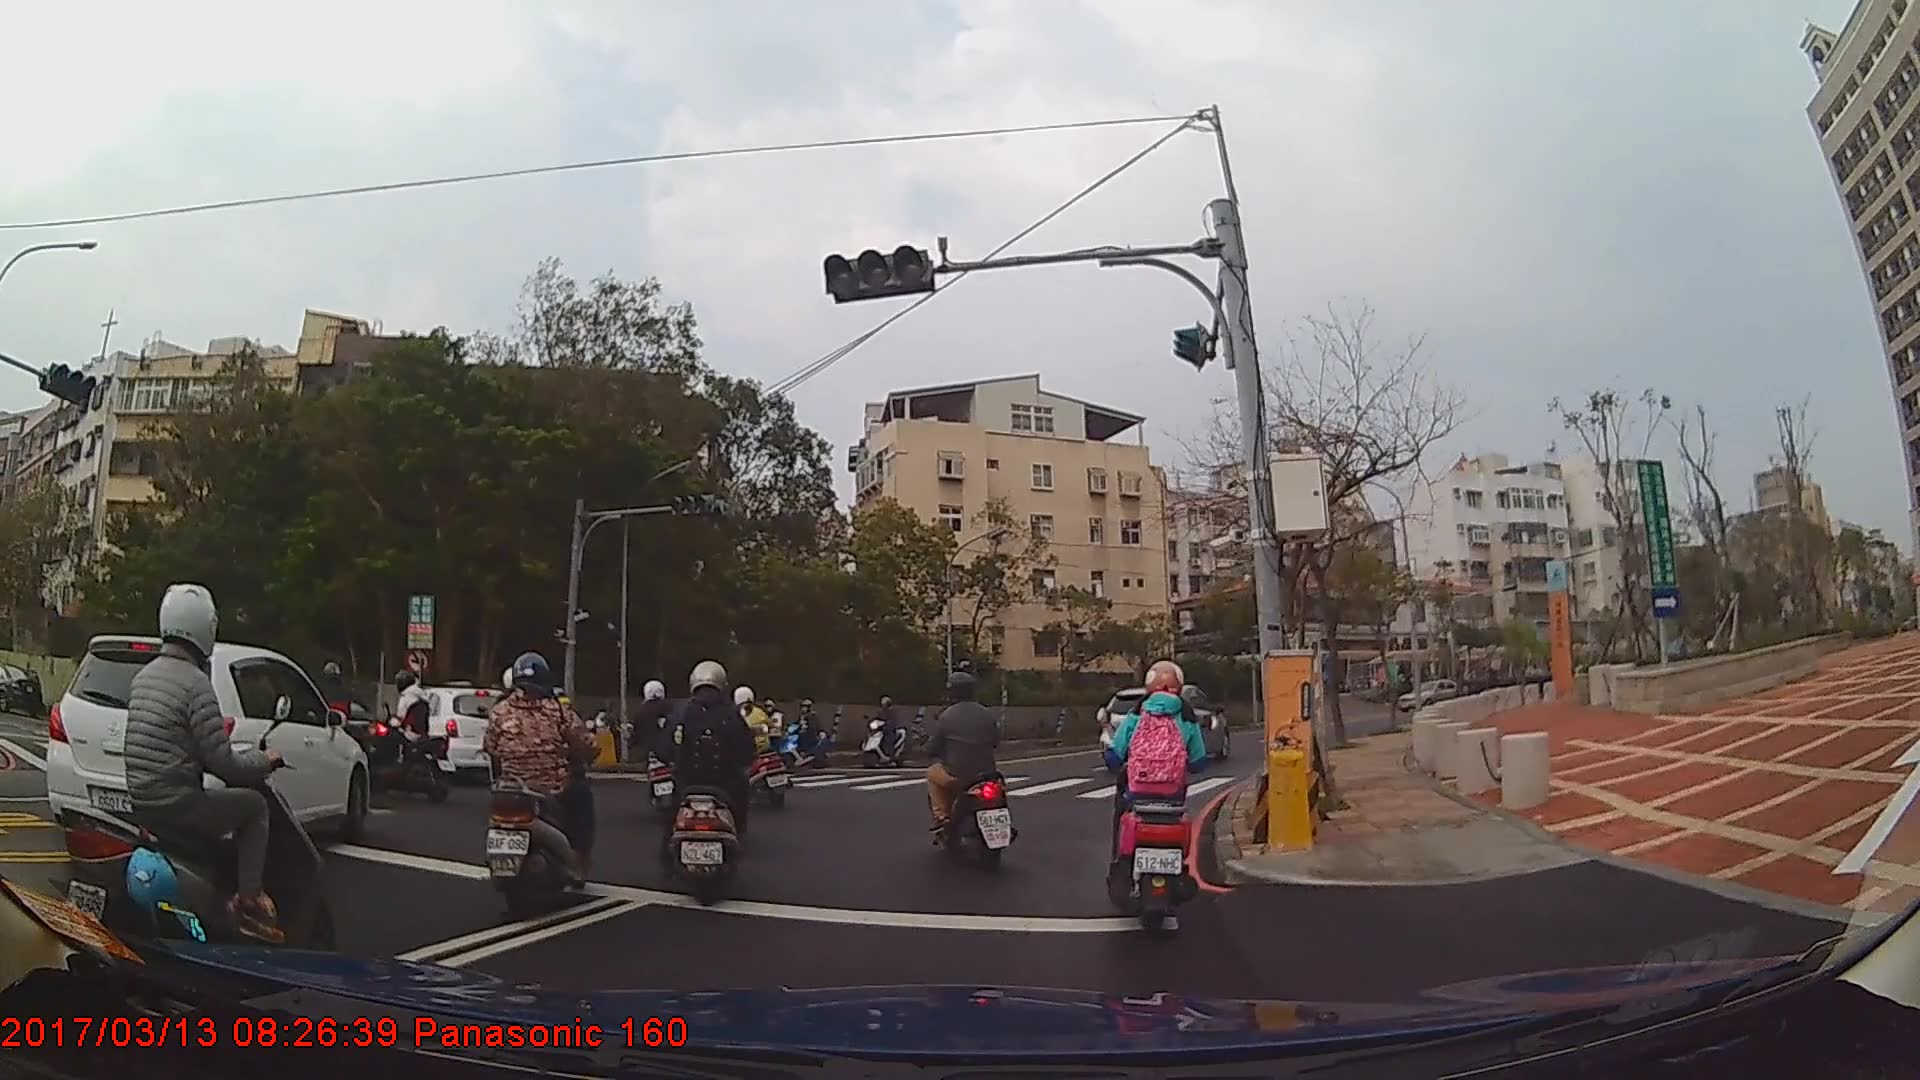rider: (48, 581, 335, 992), (482, 652, 603, 923), (1106, 659, 1213, 932), (658, 663, 759, 909), (921, 668, 1014, 869), (619, 678, 694, 825), (301, 656, 367, 790), (371, 666, 438, 789), (859, 697, 911, 768), (785, 697, 827, 766)
vehicle: (43, 633, 368, 864), (379, 682, 517, 781), (1098, 682, 1228, 769), (1396, 676, 1466, 713), (0, 661, 43, 715)
